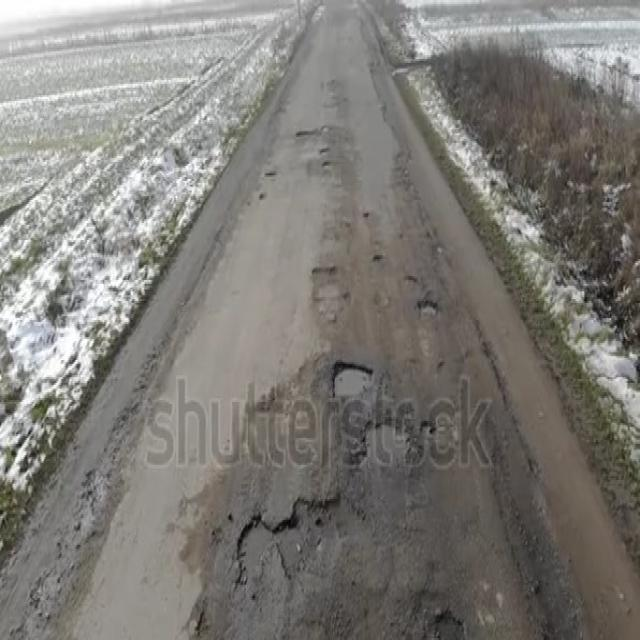pothole: (234, 499, 375, 636), (342, 397, 459, 473), (425, 601, 495, 639), (334, 365, 371, 397), (416, 290, 440, 317)
